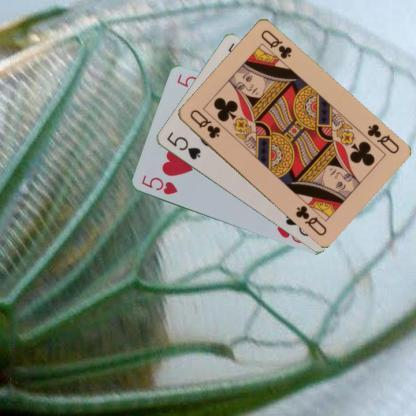5h: (138, 173, 178, 196)
5s: (164, 128, 202, 162)
Qc: (364, 121, 400, 156), (186, 107, 221, 140)
